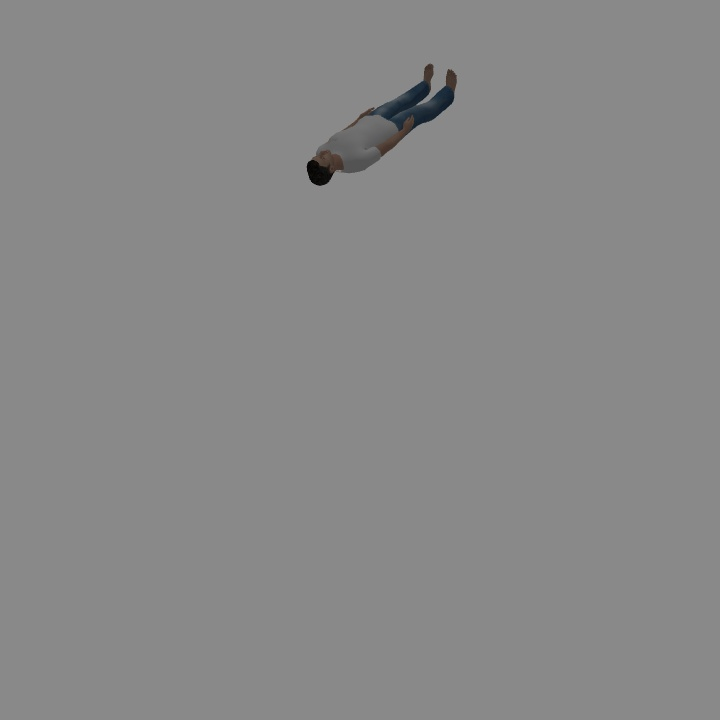victim: (308, 67, 455, 182)
